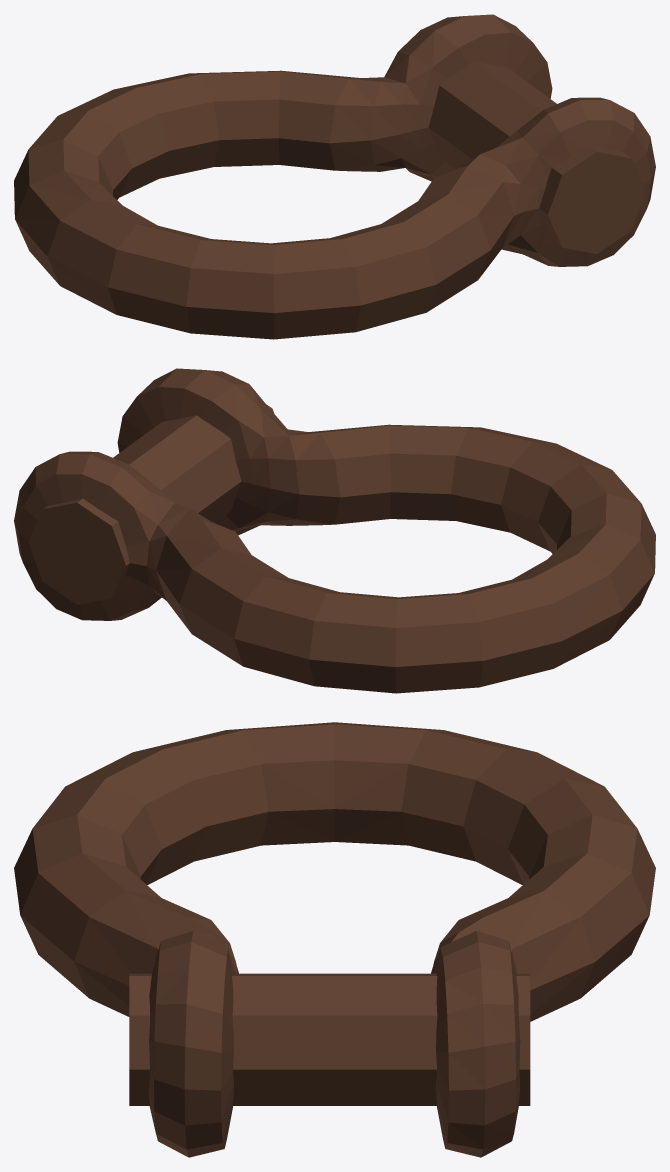
The picture shows the model from 3 angles, top to bottom: view 1: azimuth 30°, elevation 25°; view 2: azimuth 150°, elevation 25°; view 3: azimuth 270°, elevation 25°; orthographic projection. The views are drawn at different scales.
Parts seen in each view (by area): view 1: product-d1dd7e39-7935-4dea-ac4b-f6206a72c1cd-body; view 2: product-d1dd7e39-7935-4dea-ac4b-f6206a72c1cd-body; view 3: product-d1dd7e39-7935-4dea-ac4b-f6206a72c1cd-body.
Boxes of the visible parts, <box> form: product-d1dd7e39-7935-4dea-ac4b-f6206a72c1cd-body: <box>14,14,655,339</box>; product-d1dd7e39-7935-4dea-ac4b-f6206a72c1cd-body: <box>14,368,655,693</box>; product-d1dd7e39-7935-4dea-ac4b-f6206a72c1cd-body: <box>14,722,655,1157</box>.
Bounding box in the file's own units: 0.1885 × 0.054 × 0.1524.
